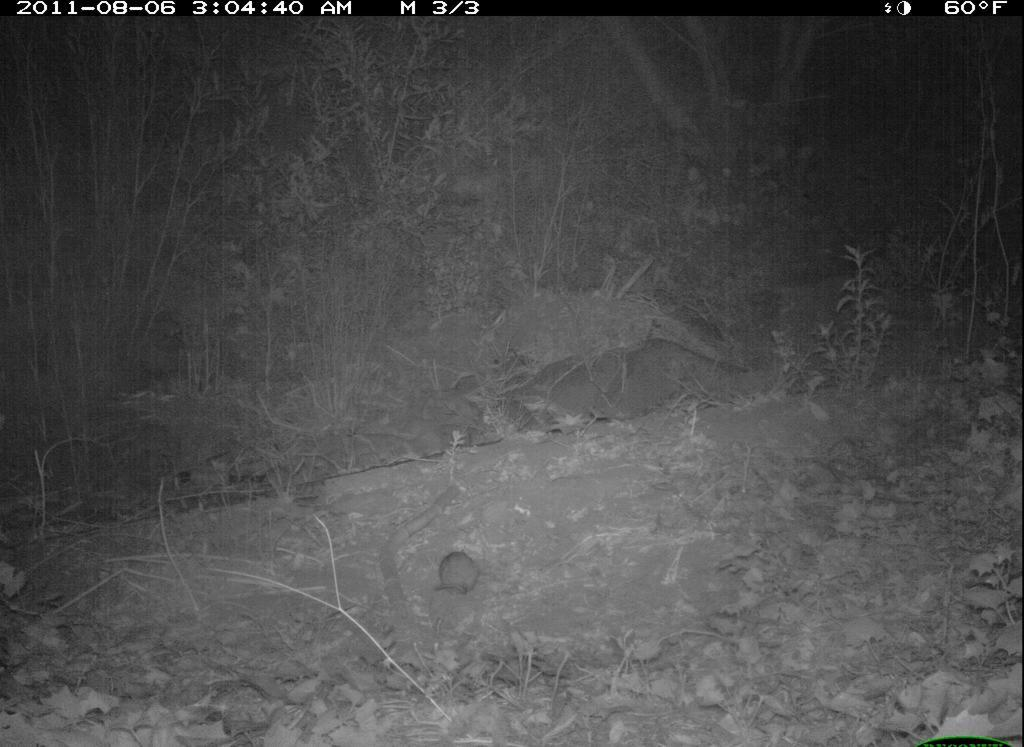rodent: (431, 548, 484, 597)
